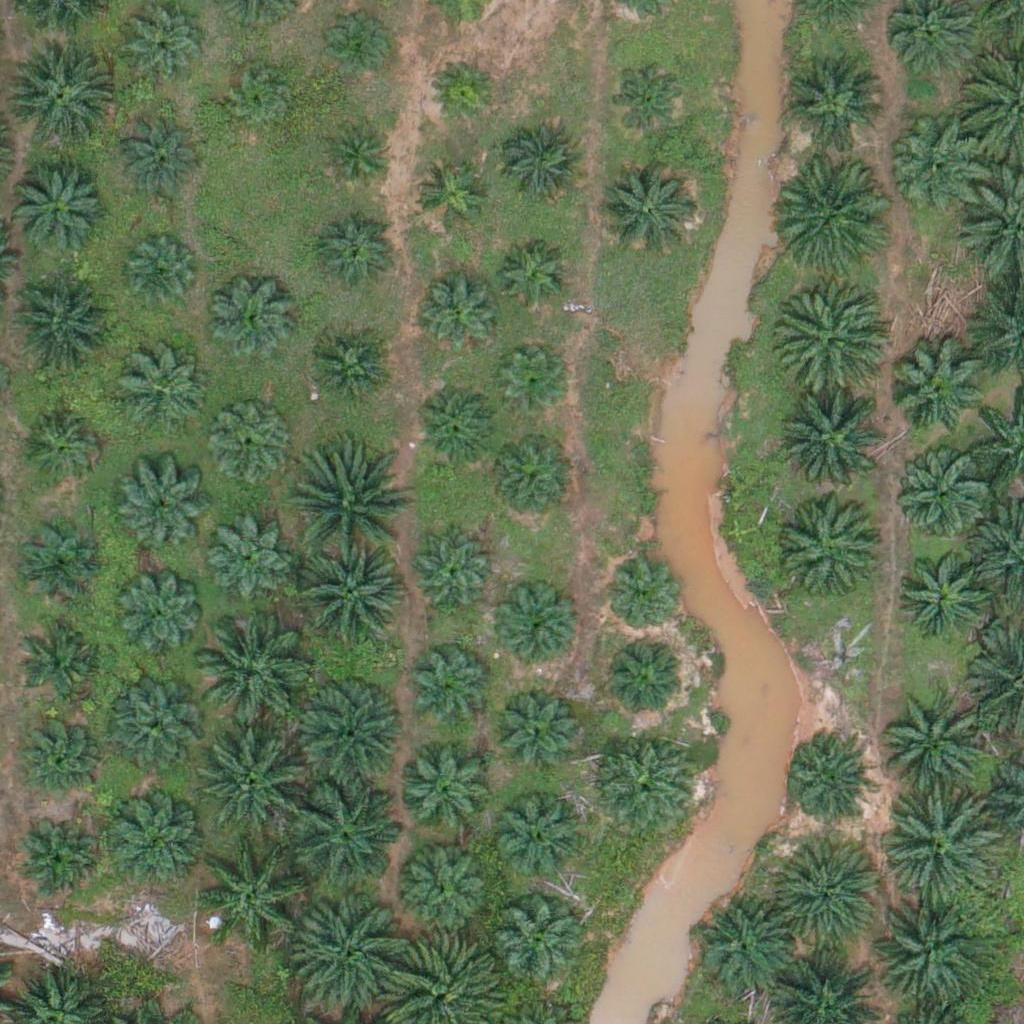Kelapa_Sawit: (872, 901, 985, 1015), (770, 837, 883, 951), (776, 155, 889, 269), (287, 674, 400, 788), (772, 279, 885, 392), (294, 451, 407, 564), (291, 772, 404, 885), (779, 388, 891, 502), (298, 899, 410, 1013), (883, 678, 995, 791), (887, 792, 999, 905), (292, 544, 404, 657), (199, 838, 311, 951), (199, 729, 311, 842), (195, 617, 307, 730), (1, 41, 113, 154), (889, 445, 989, 546), (893, 541, 993, 642), (782, 497, 882, 598), (597, 161, 697, 262), (595, 730, 695, 831), (487, 791, 587, 892), (104, 684, 204, 785), (8, 163, 108, 264), (784, 52, 884, 153), (695, 898, 795, 999), (886, 338, 986, 438), (397, 837, 497, 937), (401, 741, 501, 841), (103, 790, 203, 890), (889, 115, 989, 215), (414, 267, 502, 356), (606, 55, 694, 144), (312, 211, 400, 299), (300, 327, 388, 415), (484, 434, 572, 522), (407, 644, 495, 732), (116, 470, 204, 558), (116, 571, 204, 659), (15, 819, 103, 907), (17, 402, 105, 490), (206, 403, 294, 491), (115, 116, 203, 204), (500, 120, 588, 208), (783, 731, 870, 819), (413, 382, 500, 470), (406, 530, 493, 618), (495, 587, 582, 675), (602, 633, 689, 721), (496, 903, 583, 991), (491, 682, 578, 770), (13, 709, 100, 797), (21, 612, 108, 700), (13, 515, 100, 603), (208, 274, 295, 362), (205, 516, 292, 604), (119, 347, 206, 435), (123, 237, 198, 313), (321, 8, 396, 84), (496, 347, 571, 423), (605, 560, 680, 636), (319, 120, 394, 196), (411, 158, 486, 233), (225, 63, 300, 138), (499, 242, 574, 317), (426, 54, 501, 129)
